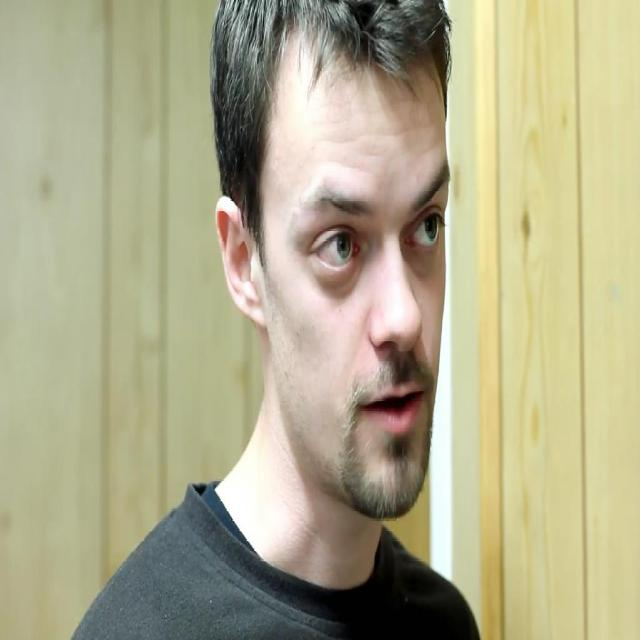Face: (247, 39, 452, 527)
